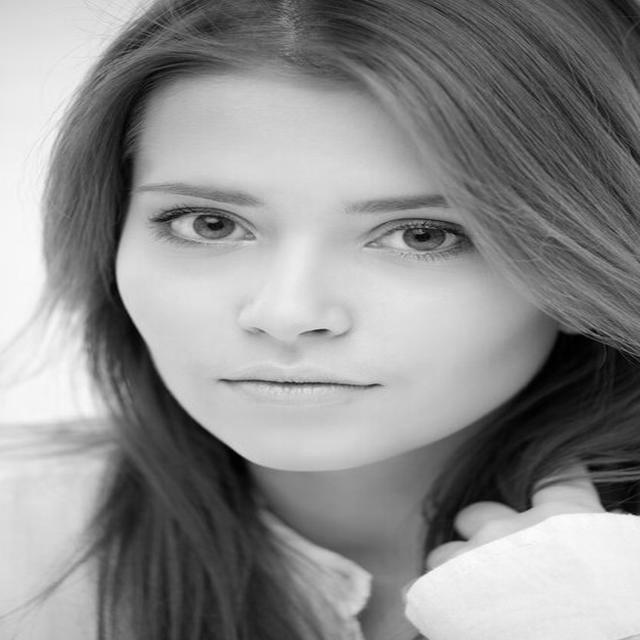Neutral: (116, 76, 560, 472)
